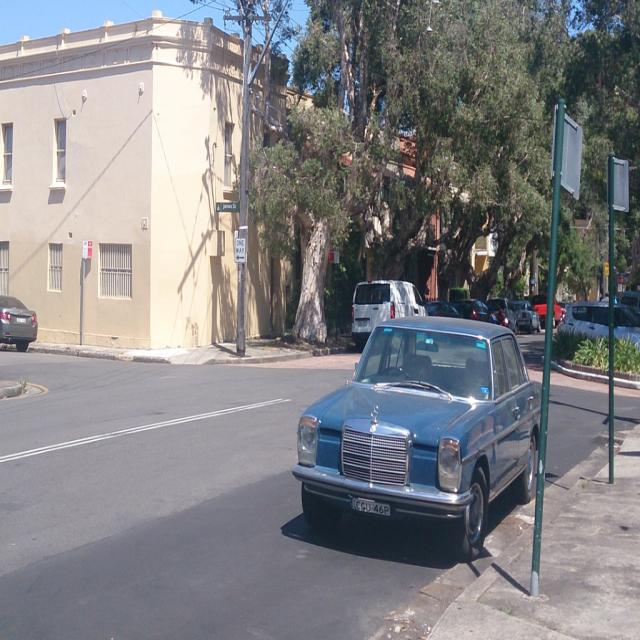car: (292, 311, 548, 559)
